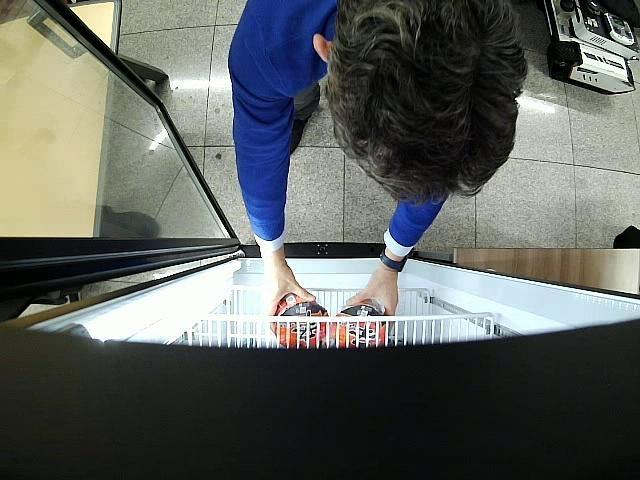01_ShinRamen_L: (270, 292, 329, 348), (331, 302, 386, 347)
